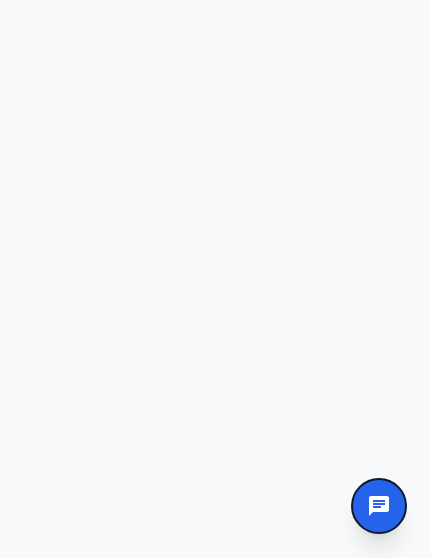
ElonChatWidget Component (TDD Suite) › closes dialog when the minimize / close button is clicked in the header
What coordinates should you click on to do the following:
click the button with test id "elon-fab-button"
I would click on:
 (379, 506)
Its box is [351, 478, 407, 534].
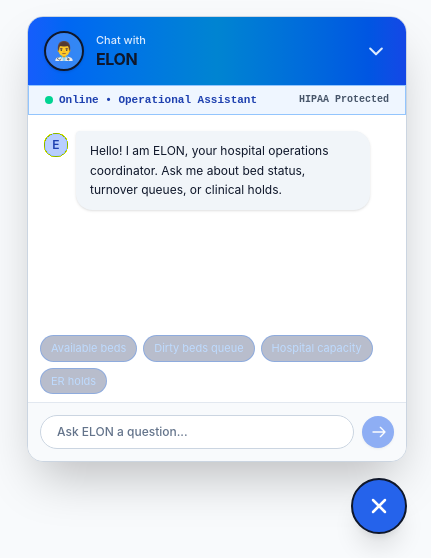
What coordinates should you click on to do the following:
click the button named "close"
I would click on:
 (376, 50)
Its box is [362, 36, 390, 64].
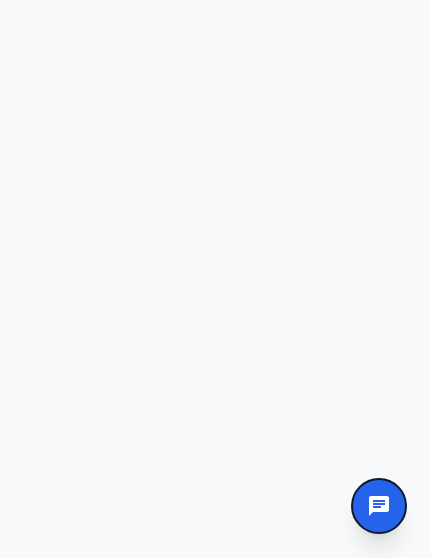
Check: the element with test id "elon-chat-dialog" is gone
